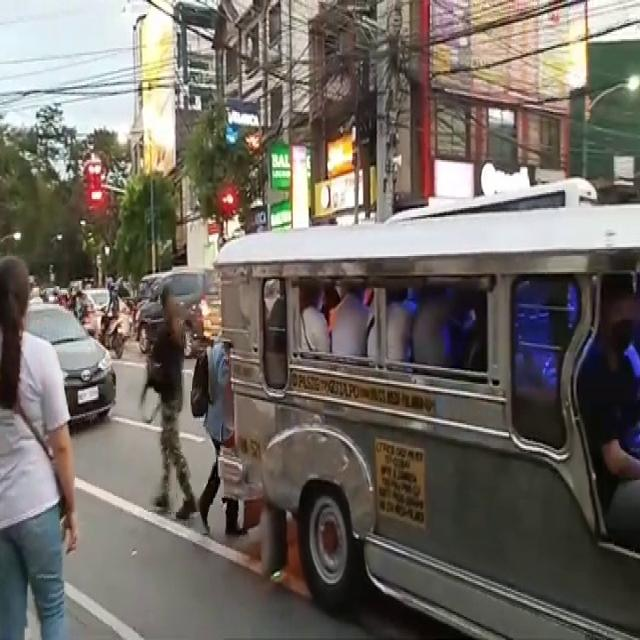car: (29, 304, 127, 438), (149, 267, 222, 350)
jeepney: (228, 235, 640, 640)
